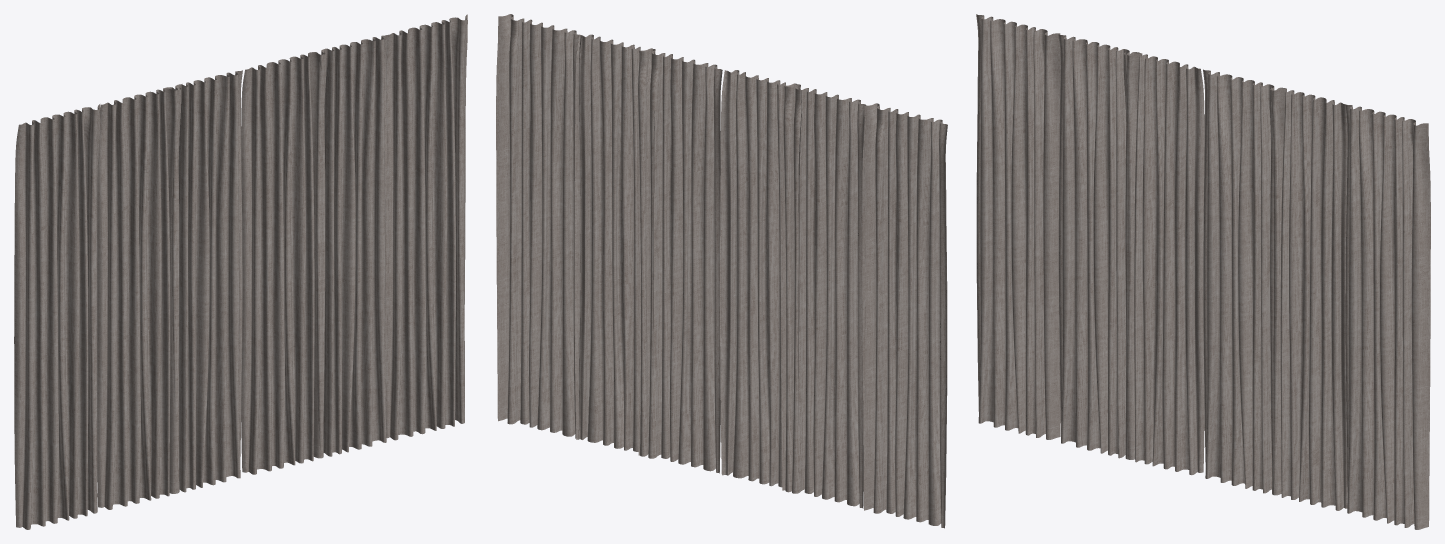
Rendered from chuanlian.FBX.
The picture shows the model from 3 angles, left to right: view 1: azimuth 30°, elevation 25°; view 2: azimuth 150°, elevation 25°; view 3: azimuth 330°, elevation 25°; orthographic projection.
Parts seen in each view (by area): view 1: Arch60_FwdsFF016_obj004, Arch60_FwdsFF016_obj01, Arch60_FwdsFF016_obj002, Arch60_FwdsFF016_obj003, Arch60_016_obj00, Arch60_016_obj003; view 2: Arch60_FwdsFF016_obj004, Arch60_FwdsFF016_obj01, Arch60_FwdsFF016_obj002, Arch60_FwdsFF016_obj003, Arch60_016_obj003, Arch60_016_obj00; view 3: Arch60_FwdsFF016_obj01, Arch60_FwdsFF016_obj004, Arch60_FwdsFF016_obj003, Arch60_FwdsFF016_obj002, Arch60_016_obj00, Arch60_016_obj003.
Part boxes in pixels (<box>): Arch60_FwdsFF016_obj004: <box>14,104,100,529</box>; Arch60_FwdsFF016_obj01: <box>386,14,467,440</box>; Arch60_FwdsFF016_obj002: <box>241,49,326,474</box>; Arch60_FwdsFF016_obj003: <box>97,84,182,509</box>; Arch60_016_obj00: <box>163,70,242,493</box>; Arch60_016_obj003: <box>309,34,388,458</box>; Arch60_FwdsFF016_obj004: <box>862,103,947,528</box>; Arch60_FwdsFF016_obj01: <box>496,14,581,439</box>; Arch60_FwdsFF016_obj002: <box>637,48,722,473</box>; Arch60_FwdsFF016_obj003: <box>780,83,866,508</box>; Arch60_016_obj003: <box>574,34,655,456</box>; Arch60_016_obj00: <box>720,70,801,492</box>; Arch60_FwdsFF016_obj01: <box>1345,104,1430,529</box>; Arch60_FwdsFF016_obj004: <box>976,14,1060,439</box>; Arch60_FwdsFF016_obj003: <box>1058,34,1142,459</box>; Arch60_FwdsFF016_obj002: <box>1203,69,1286,495</box>; Arch60_016_obj00: <box>1123,49,1204,475</box>; Arch60_016_obj003: <box>1269,85,1347,510</box>.
Bounding box in the file's own units: 270 × 231 × 8.61.
1 material, 1 textured.
